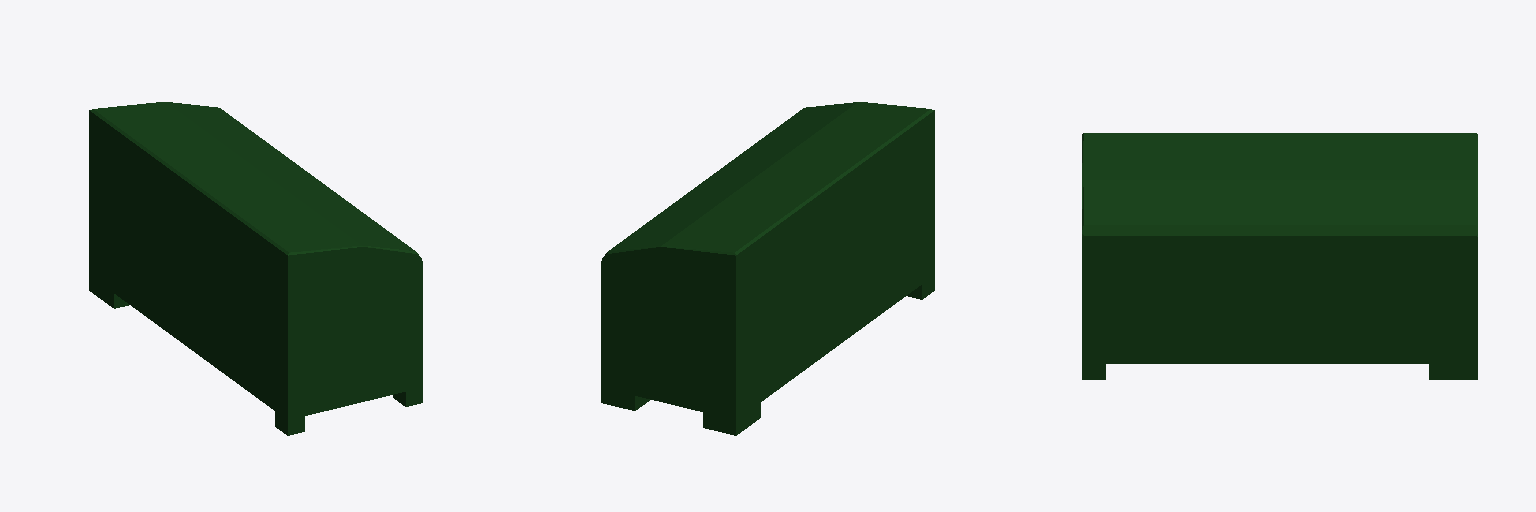
Rendered from dumpster.obj.
3 renders of one model, left to right at view 1: azimuth 30°, elevation 25°; view 2: azimuth 150°, elevation 25°; view 3: azimuth 270°, elevation 25°, orthographic.
Visible parts, largest first — view 1: dumpster; view 2: dumpster; view 3: dumpster.
Part boxes in pixels (bbox=[...]): dumpster: bbox=[89, 102, 422, 435]; dumpster: bbox=[601, 102, 934, 435]; dumpster: bbox=[1082, 133, 1477, 379].
Size of the model in its own units: 4.53 by 5.84 by 11.54.